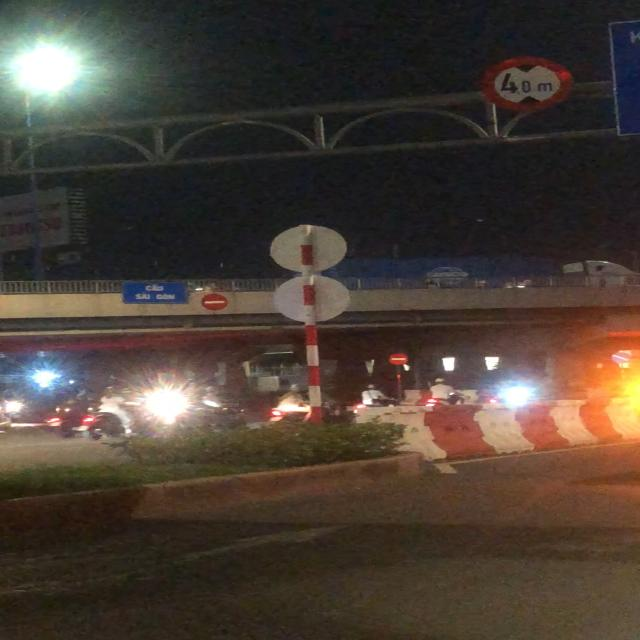Bien bao cam di nguoc chieu: (199, 292, 233, 312), (386, 352, 410, 366)
Bien bao han che chieu cao: (472, 52, 591, 111)
Bien bao huong phai di vong chuong ngai vat: (608, 351, 634, 365)
